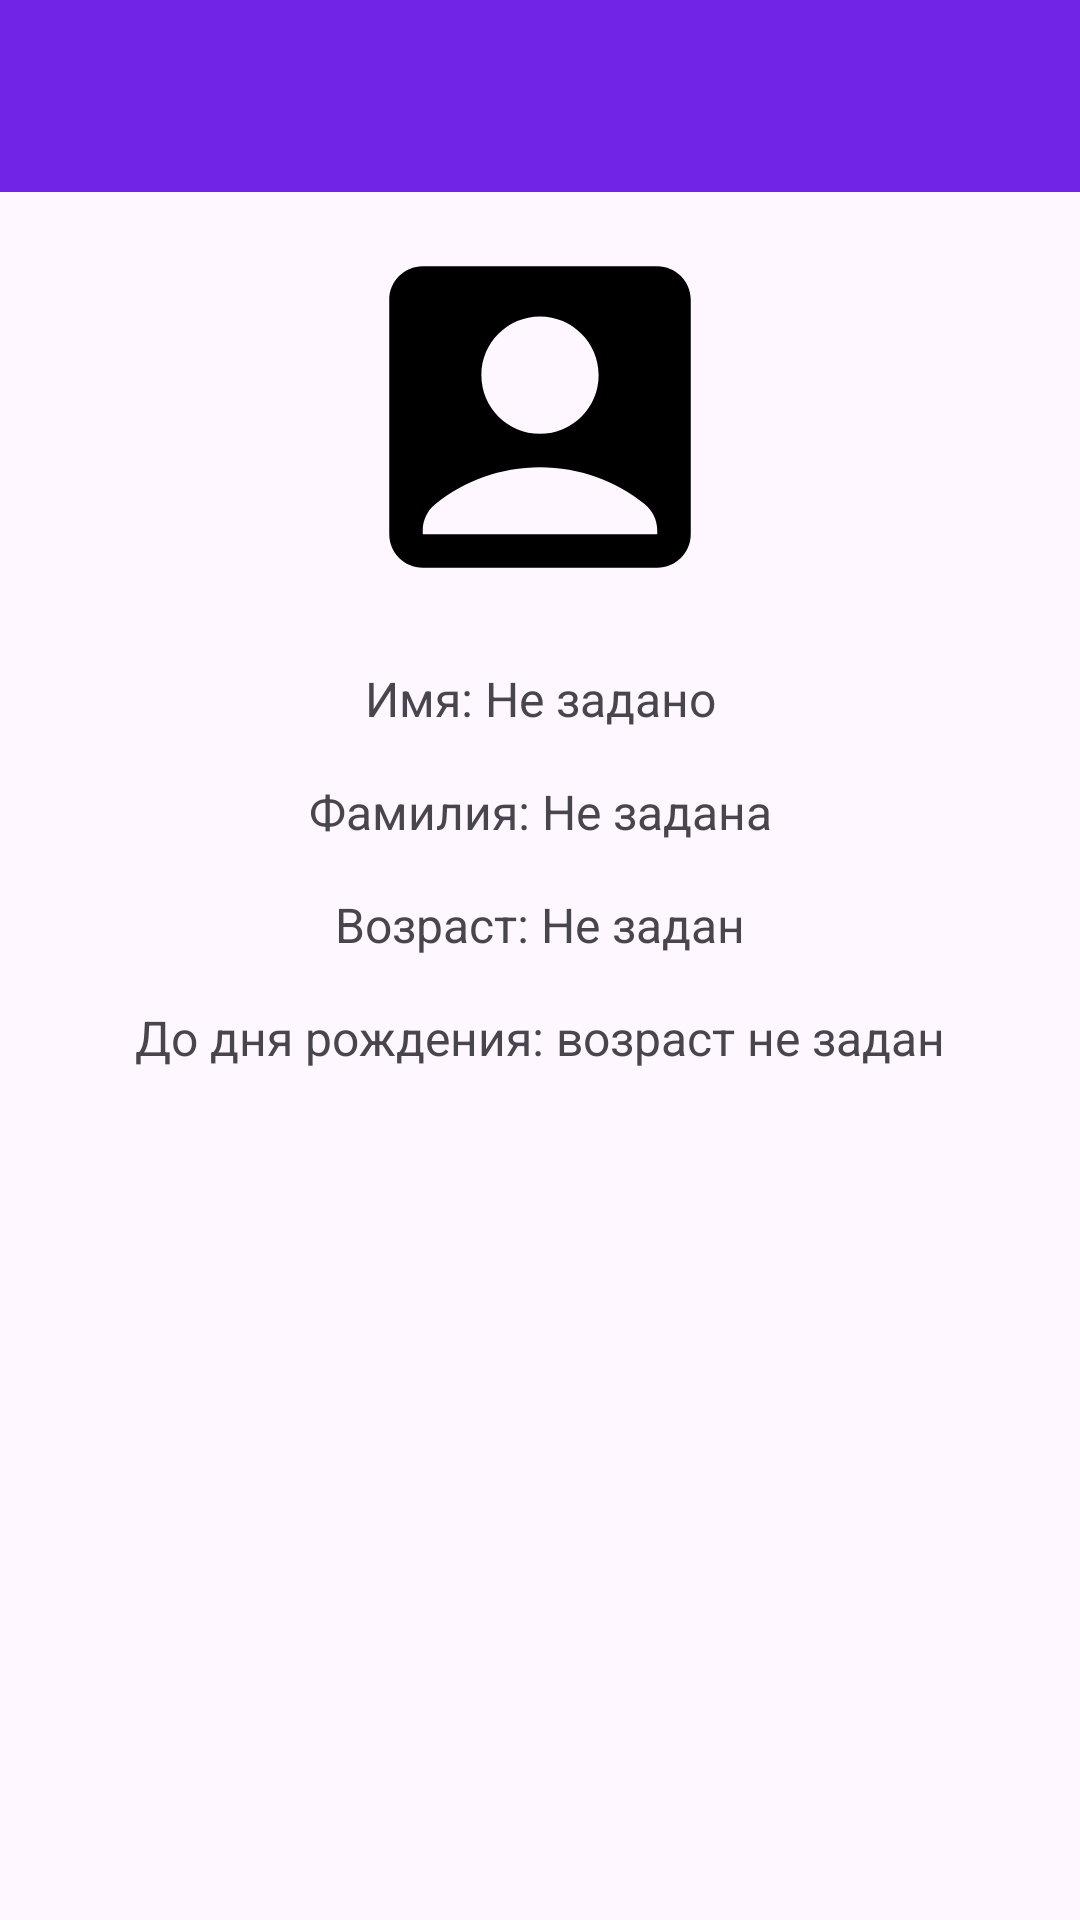

Named icons in this screenshot (1080w x 1920h) and their centers, (x=x, y=y):
account box: (x=540, y=417)
